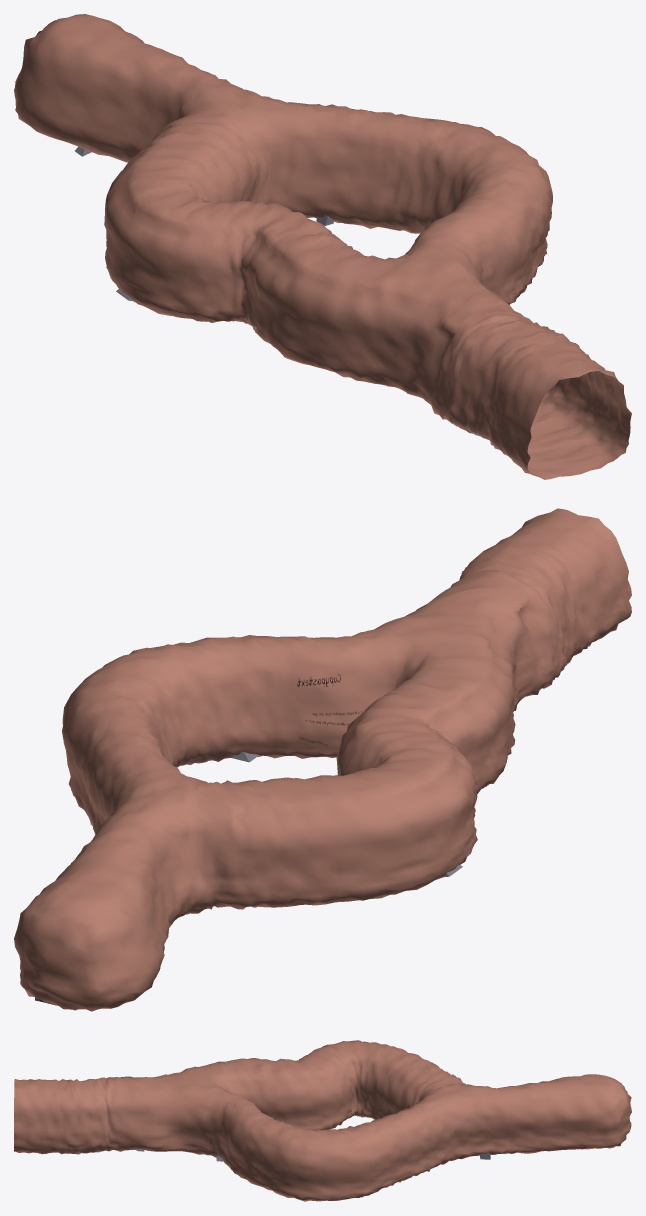
File: cave.glb
The picture shows the model from 3 angles, top to bottom: view 1: azimuth 30°, elevation 25°; view 2: azimuth 150°, elevation 25°; view 3: azimuth 270°, elevation 25°; orthographic projection. The views are drawn at different scales.
Visible parts, largest first — view 1: Cube; view 2: Cube; view 3: Cube.
Part boxes in pixels (x1=…): Cube: x1=14, y1=14, x2=631, y2=479; Cube: x1=14, y1=508, x2=631, y2=1011; Cube: x1=14, y1=1040, x2=631, y2=1201.
Bounding box in the file's own units: 23.89 × 6.43 × 54.95.
4 materials, 2 textured.
